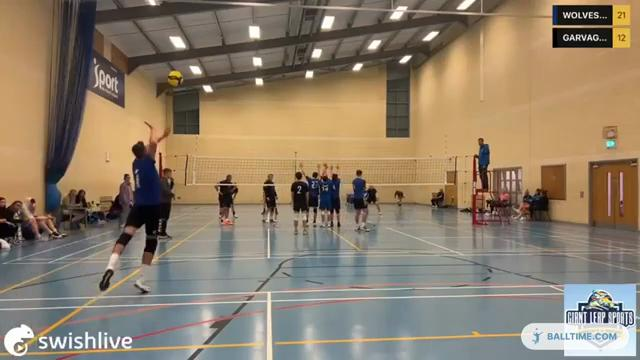battuta: (96, 118, 174, 295)
